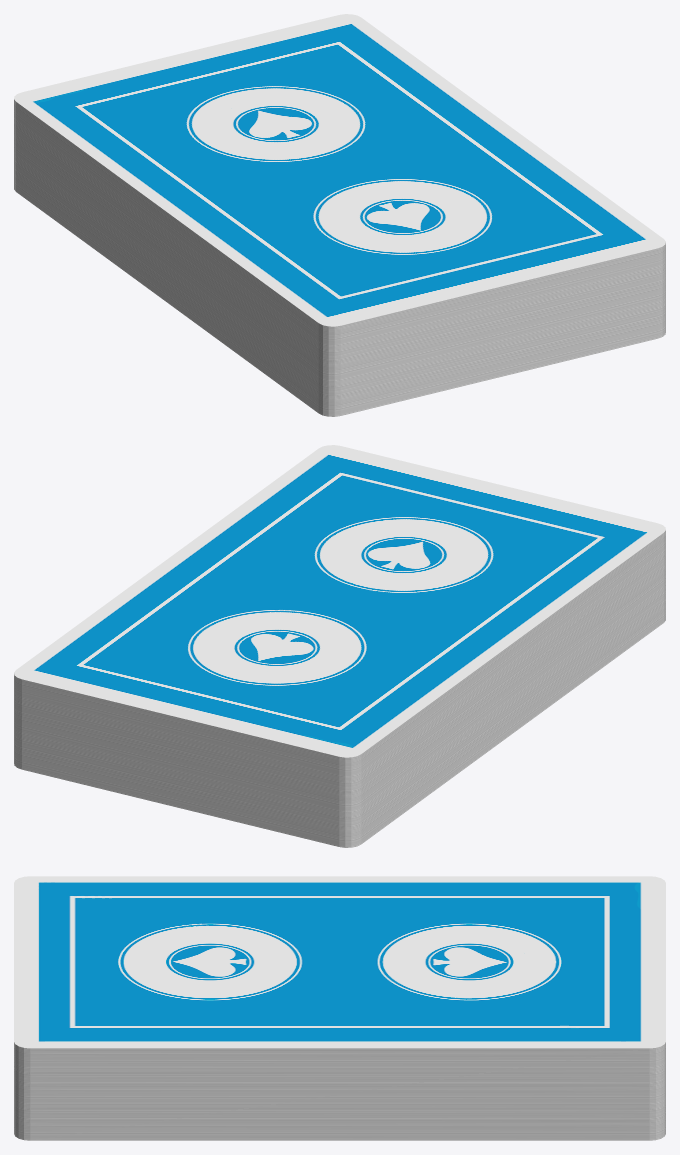
Rendered from Deck.fbx.
3 renders of one model, top to bottom at view 1: azimuth 30°, elevation 25°; view 2: azimuth 150°, elevation 25°; view 3: azimuth 270°, elevation 25°, orthographic. The views are drawn at different scales.
Parts seen in each view (by area): view 1: Deck; view 2: Deck; view 3: Deck.
Part boxes in pixels (bbox=[...]): Deck: bbox=[14, 14, 665, 416]; Deck: bbox=[14, 445, 665, 847]; Deck: bbox=[14, 876, 665, 1140].
Size of the model in its own units: 200 by 50 by 320.
